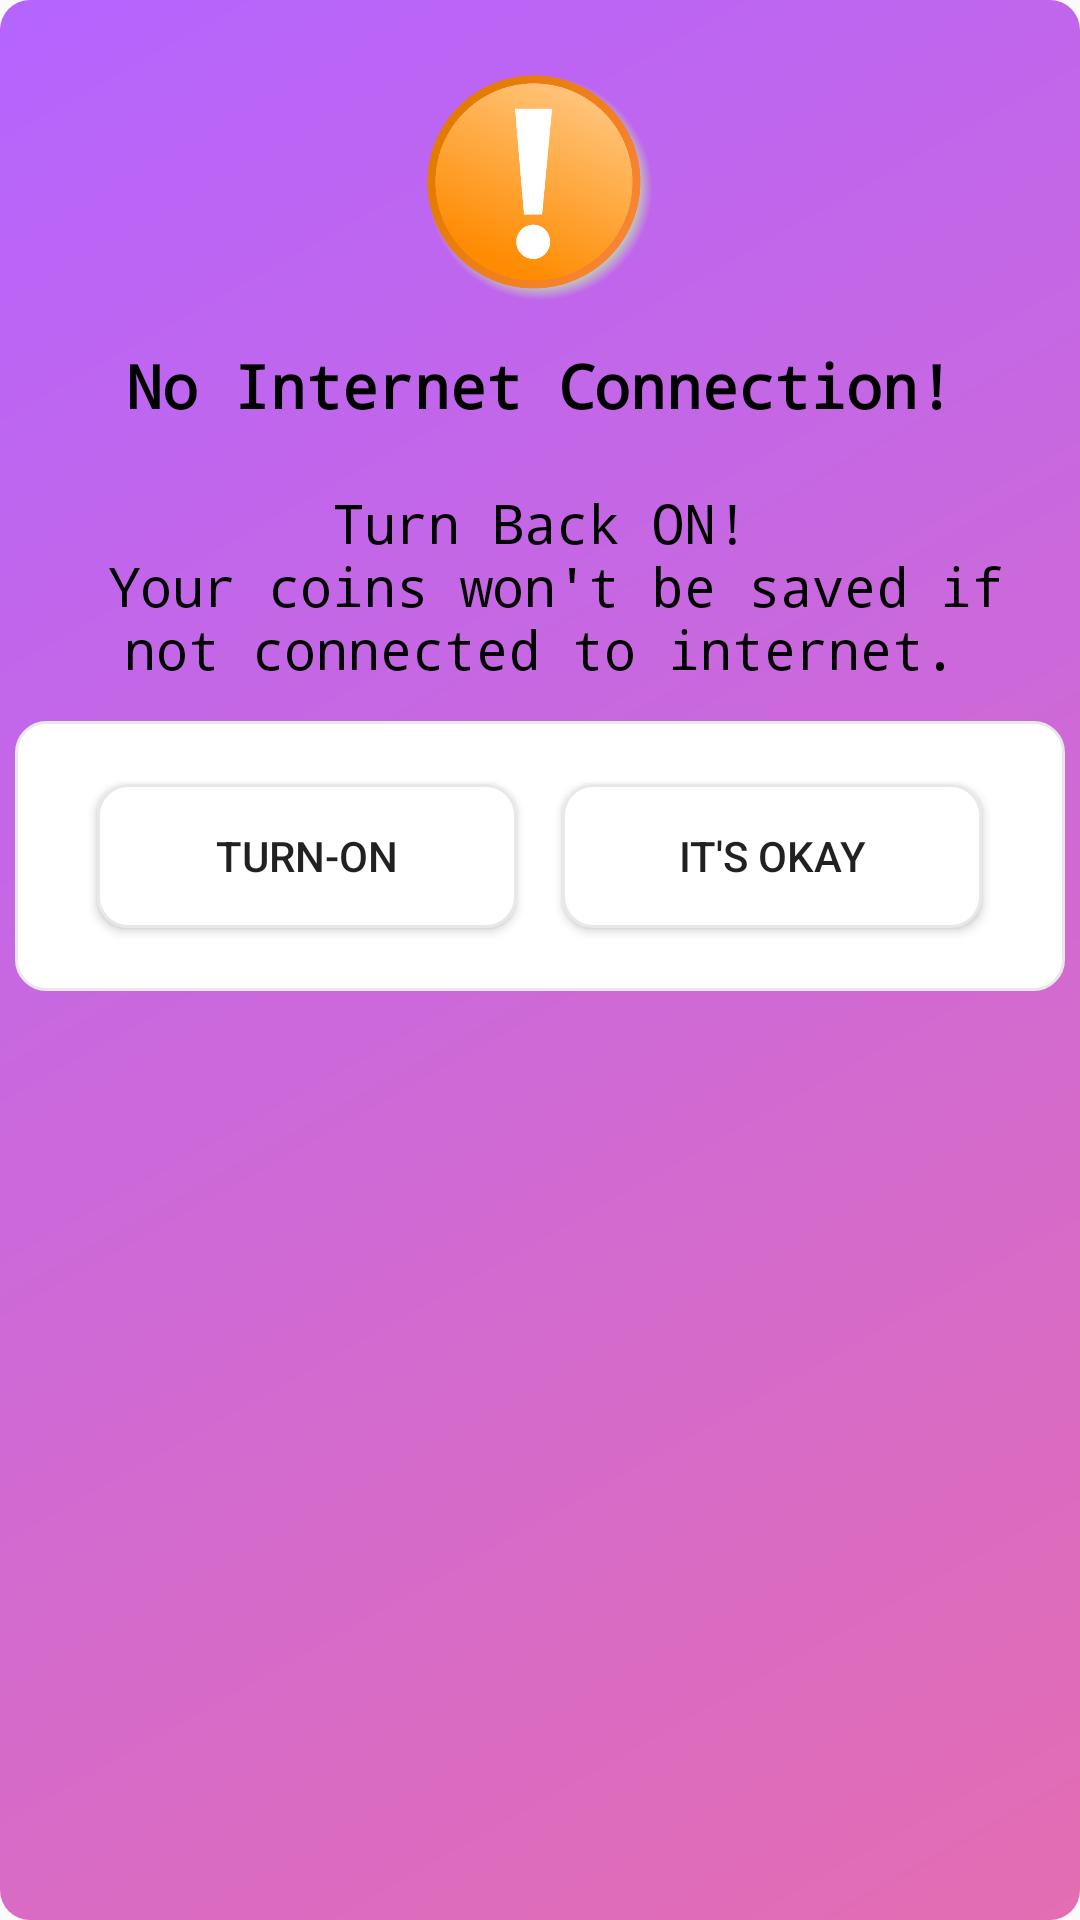

Screen size 1080*1920. Icon name, then its center in pixels as point (x, y):
warning: point (538, 186)
